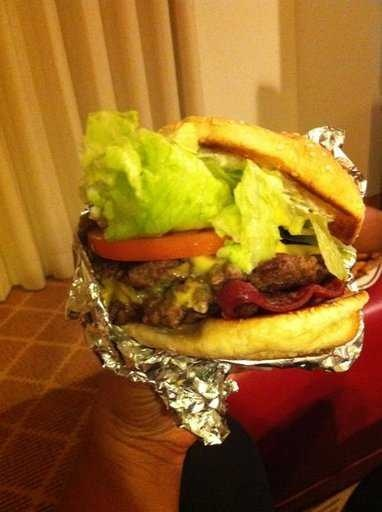hamburger: (76, 118, 358, 391)
